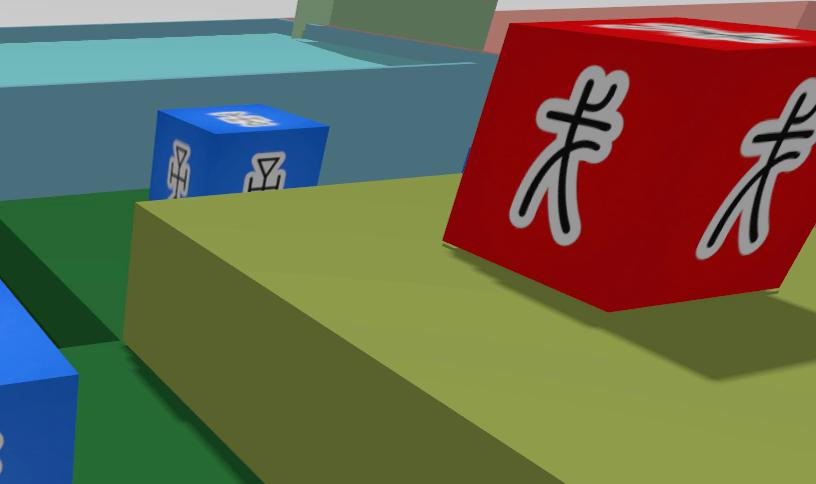KFS_FAKE: (443, 17, 815, 310), (696, 78, 815, 259), (508, 67, 628, 245)
KFS_REAL: (150, 103, 328, 199), (0, 282, 78, 484), (244, 151, 285, 191), (164, 140, 191, 198), (208, 111, 274, 126), (0, 433, 3, 448), (0, 466, 1, 472)
